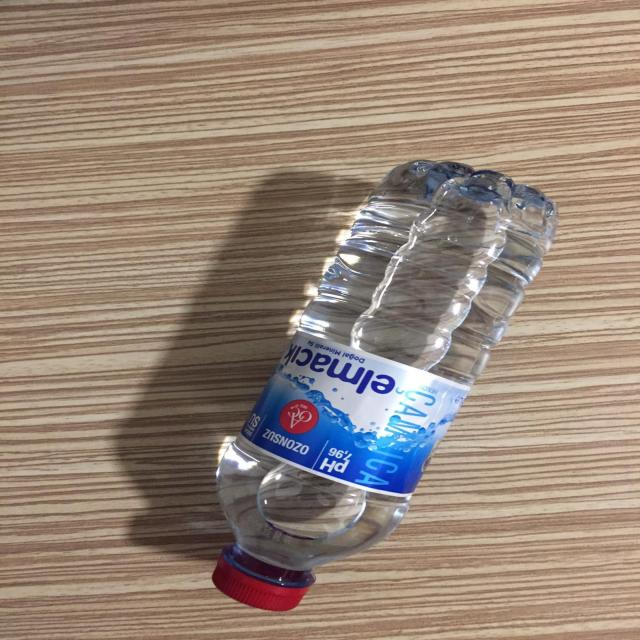bottle: (184, 151, 564, 611)
